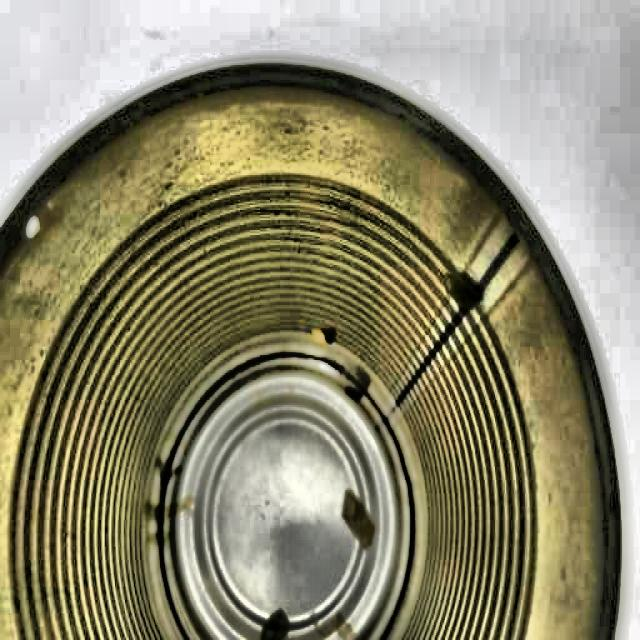metal: (1, 54, 562, 640)
